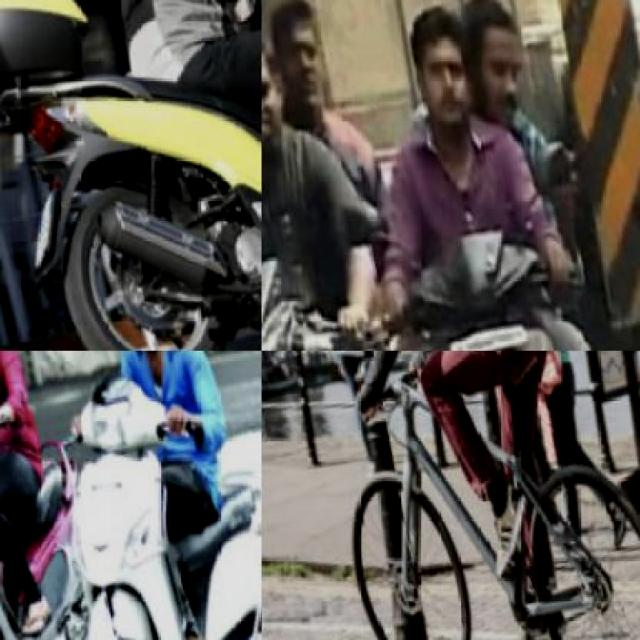Without Helmet: (395, 0, 500, 143), (441, 0, 554, 131), (261, 0, 354, 129), (262, 5, 312, 154)
